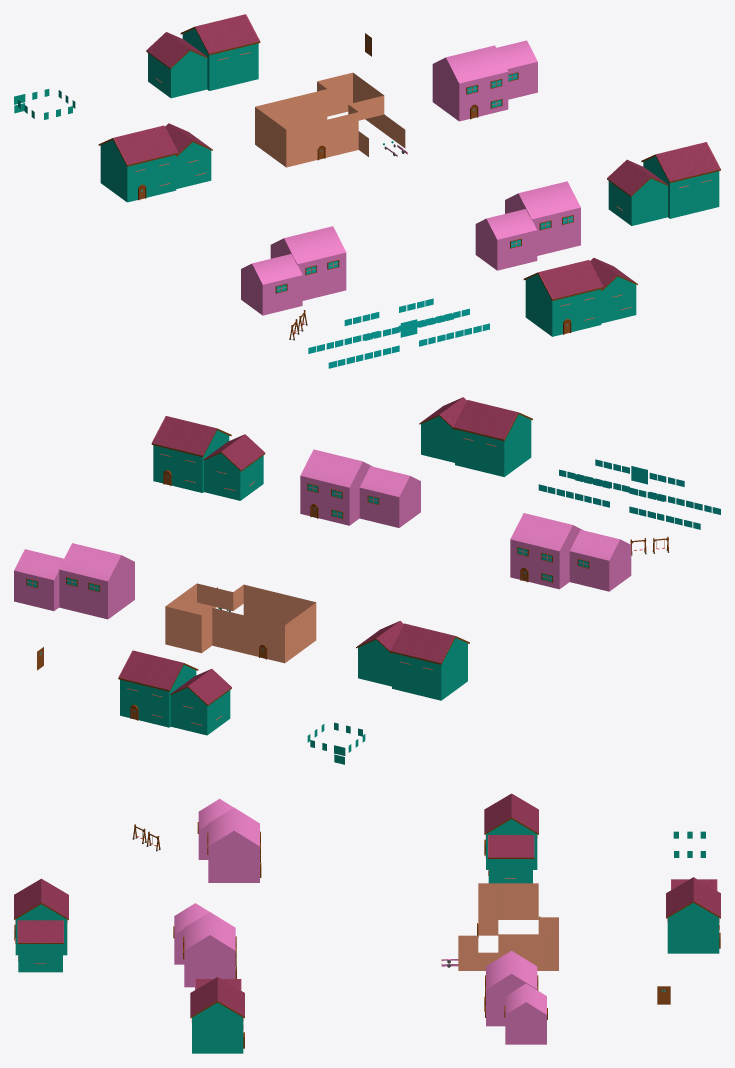
Rendered from object_14_lev1_lev2.glb.
The picture shows the model from 3 angles, top to bottom: view 1: azimuth 30°, elevation 25°; view 2: azimuth 150°, elevation 25°; view 3: azimuth 270°, elevation 25°; orthographic projection. The views are drawn at different scales.
Parts seen in each view (by area): view 1: object_14_lev1_lev2; view 2: object_14_lev1_lev2; view 3: object_14_lev1_lev2.
Part boxes in pixels (x1,y1,x2,y2): object_14_lev1_lev2: (14, 14, 720, 368); object_14_lev1_lev2: (14, 397, 720, 764); object_14_lev1_lev2: (14, 793, 720, 1053).
Bounding box in the file's own units: 77.14 × 8.85 × 105.
Materials: 1 (1 with a texture image).
